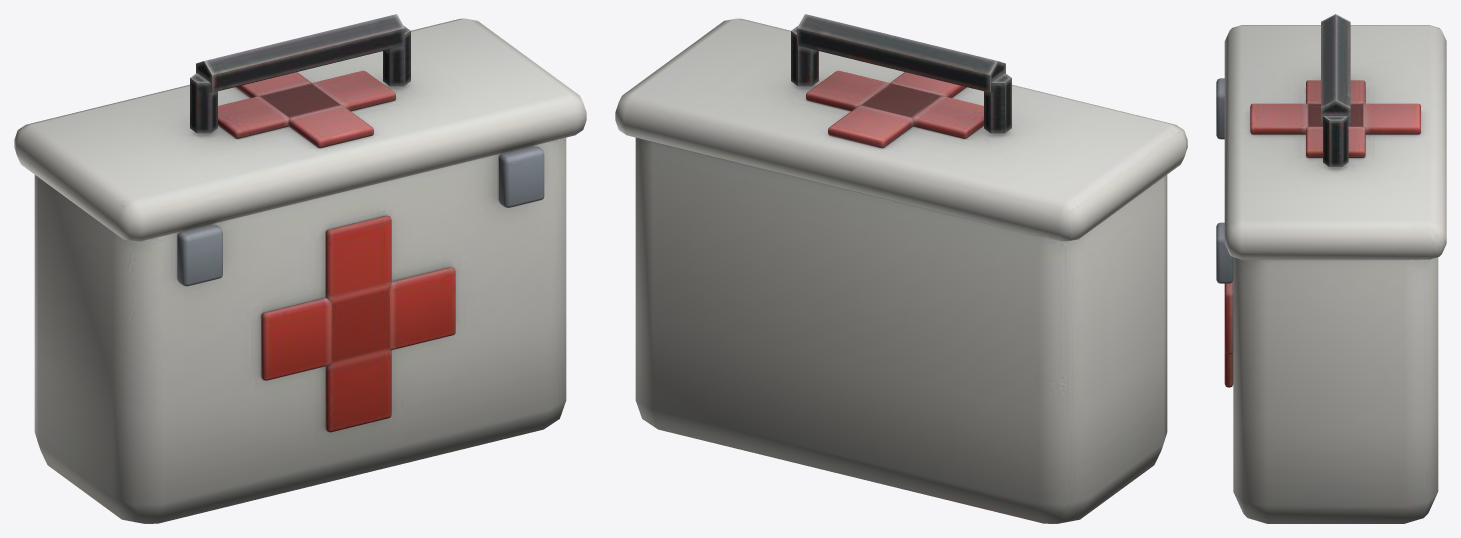
The model's file is item_kit.glb.
3 renders of one model, left to right at view 1: azimuth 30°, elevation 25°; view 2: azimuth 150°, elevation 25°; view 3: azimuth 270°, elevation 25°, orthographic. The views are drawn at different scales.
Visible parts, largest first — view 1: item_kit; view 2: item_kit; view 3: item_kit.
Part boxes in pixels (box(x1,y1,x2,y2)): item_kit: box(14, 14, 586, 523); item_kit: box(615, 14, 1187, 523); item_kit: box(1216, 14, 1446, 523).
Size of the model in its own units: 0.58 by 0.49 by 0.27.
1 material, 1 textured.
